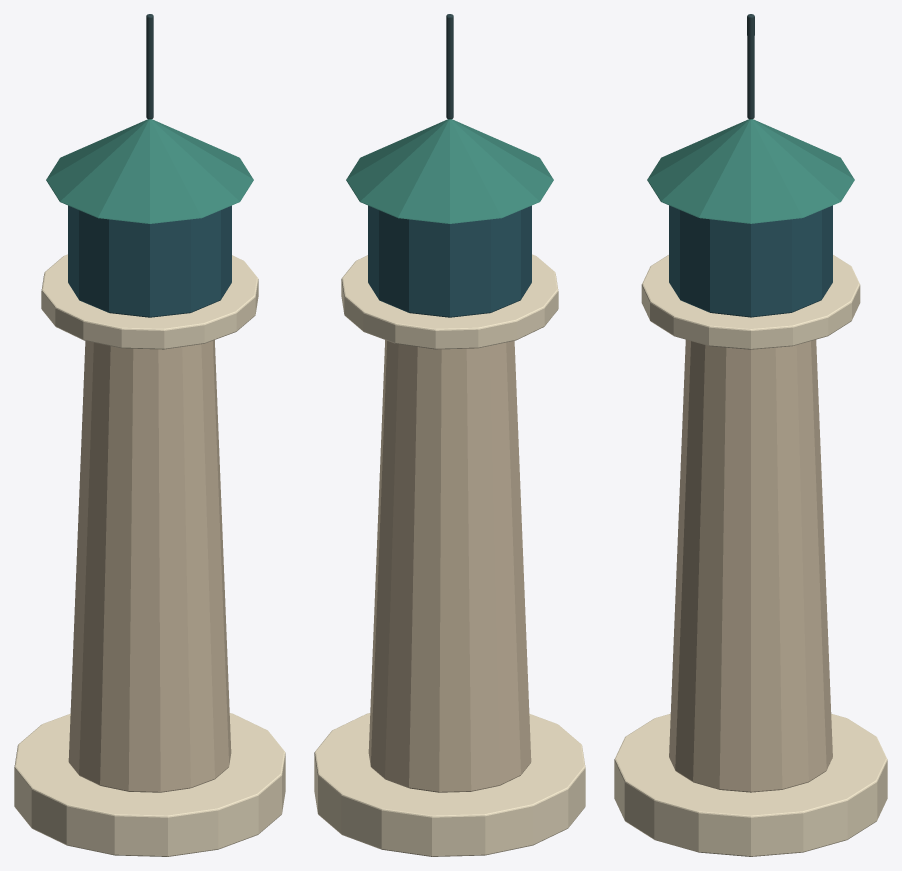
The model's file is signal-tower.glb.
3 views of the same model, side by side, from view 1: azimuth 30°, elevation 25°; view 2: azimuth 150°, elevation 25°; view 3: azimuth 270°, elevation 25° (orthographic).
Parts seen in each view (by area): view 1: signal-tower; view 2: signal-tower; view 3: signal-tower.
Boxes of the visible parts, <box> form: signal-tower: <box>14,14,285,856</box>; signal-tower: <box>314,14,585,856</box>; signal-tower: <box>614,14,887,856</box>.
Size of the model in its own units: 6 by 19 by 6.
